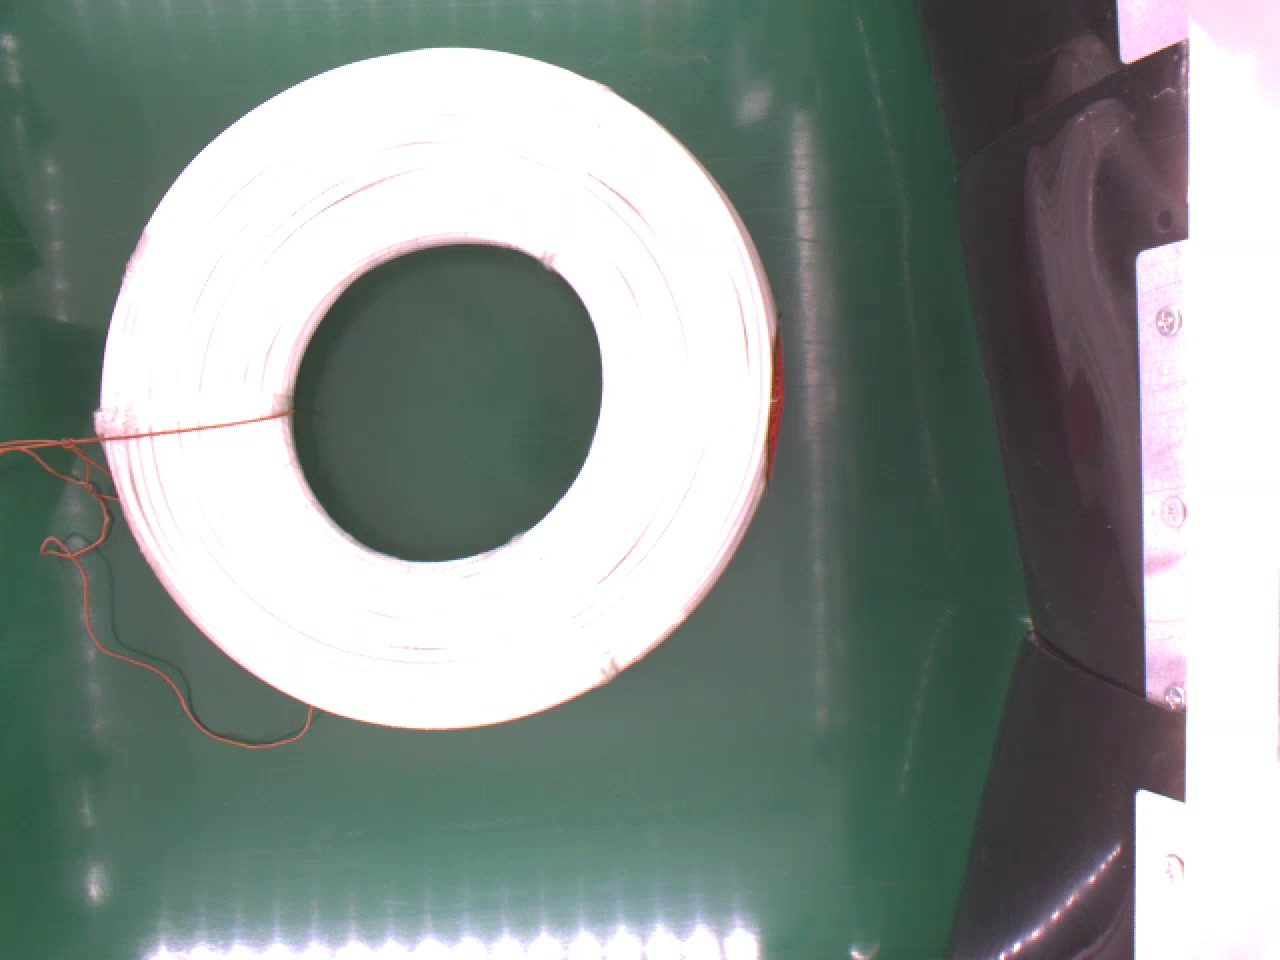white: (99, 44, 783, 733)
